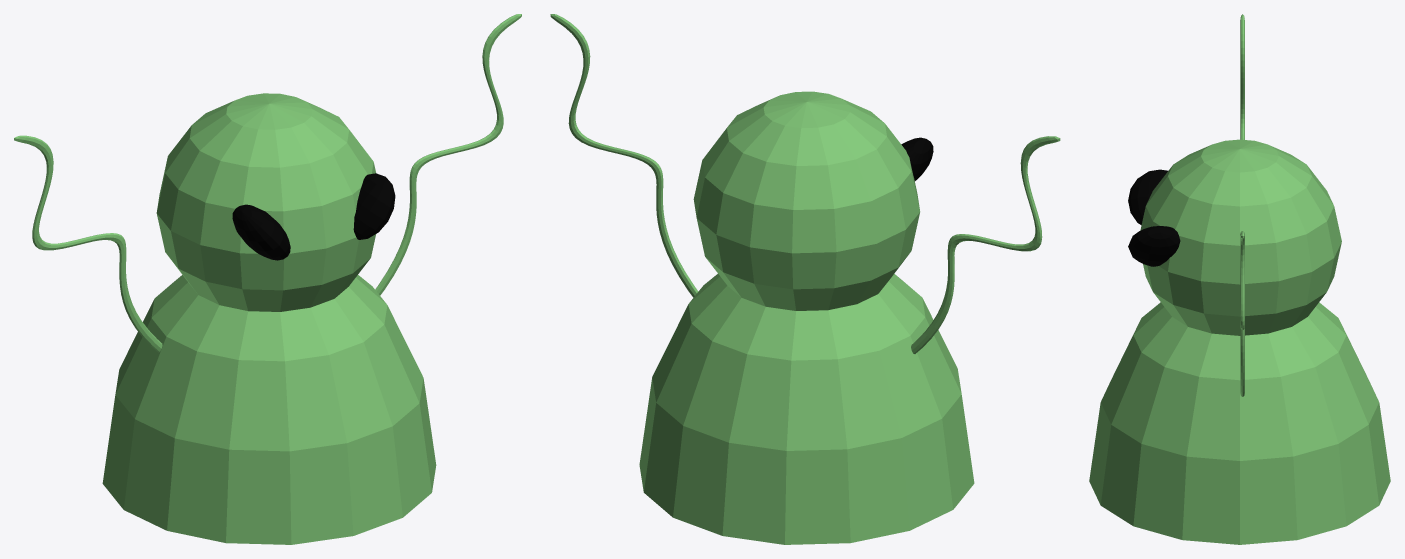
Rendered from AlienCostume.glb.
3 views of the same model, side by side, from view 1: azimuth 30°, elevation 25°; view 2: azimuth 150°, elevation 25°; view 3: azimuth 270°, elevation 25° (orthographic). The views are drawn at different scales.
Visible parts, largest first — view 1: Sphere, Sphere.001, BezierCurve, Sphere.002; view 2: Sphere, Sphere.001, BezierCurve, Sphere.002; view 3: Sphere, Sphere.001, Sphere.002, BezierCurve.
Part boxes in pixels (bbox=[...]): Sphere: bbox=[102, 275, 436, 544]; Sphere.001: bbox=[156, 93, 375, 311]; BezierCurve: bbox=[14, 14, 521, 352]; Sphere.002: bbox=[232, 173, 395, 260]; Sphere: bbox=[639, 274, 974, 544]; Sphere.001: bbox=[693, 91, 920, 310]; BezierCurve: bbox=[550, 14, 1060, 353]; Sphere.002: bbox=[901, 137, 933, 180]; Sphere: bbox=[1089, 302, 1390, 544]; Sphere.001: bbox=[1140, 139, 1341, 335]; Sphere.002: bbox=[1128, 169, 1180, 266]; BezierCurve: bbox=[1240, 14, 1244, 396].
Bounding box in the file's own units: 3.49 × 2.61 × 2.
